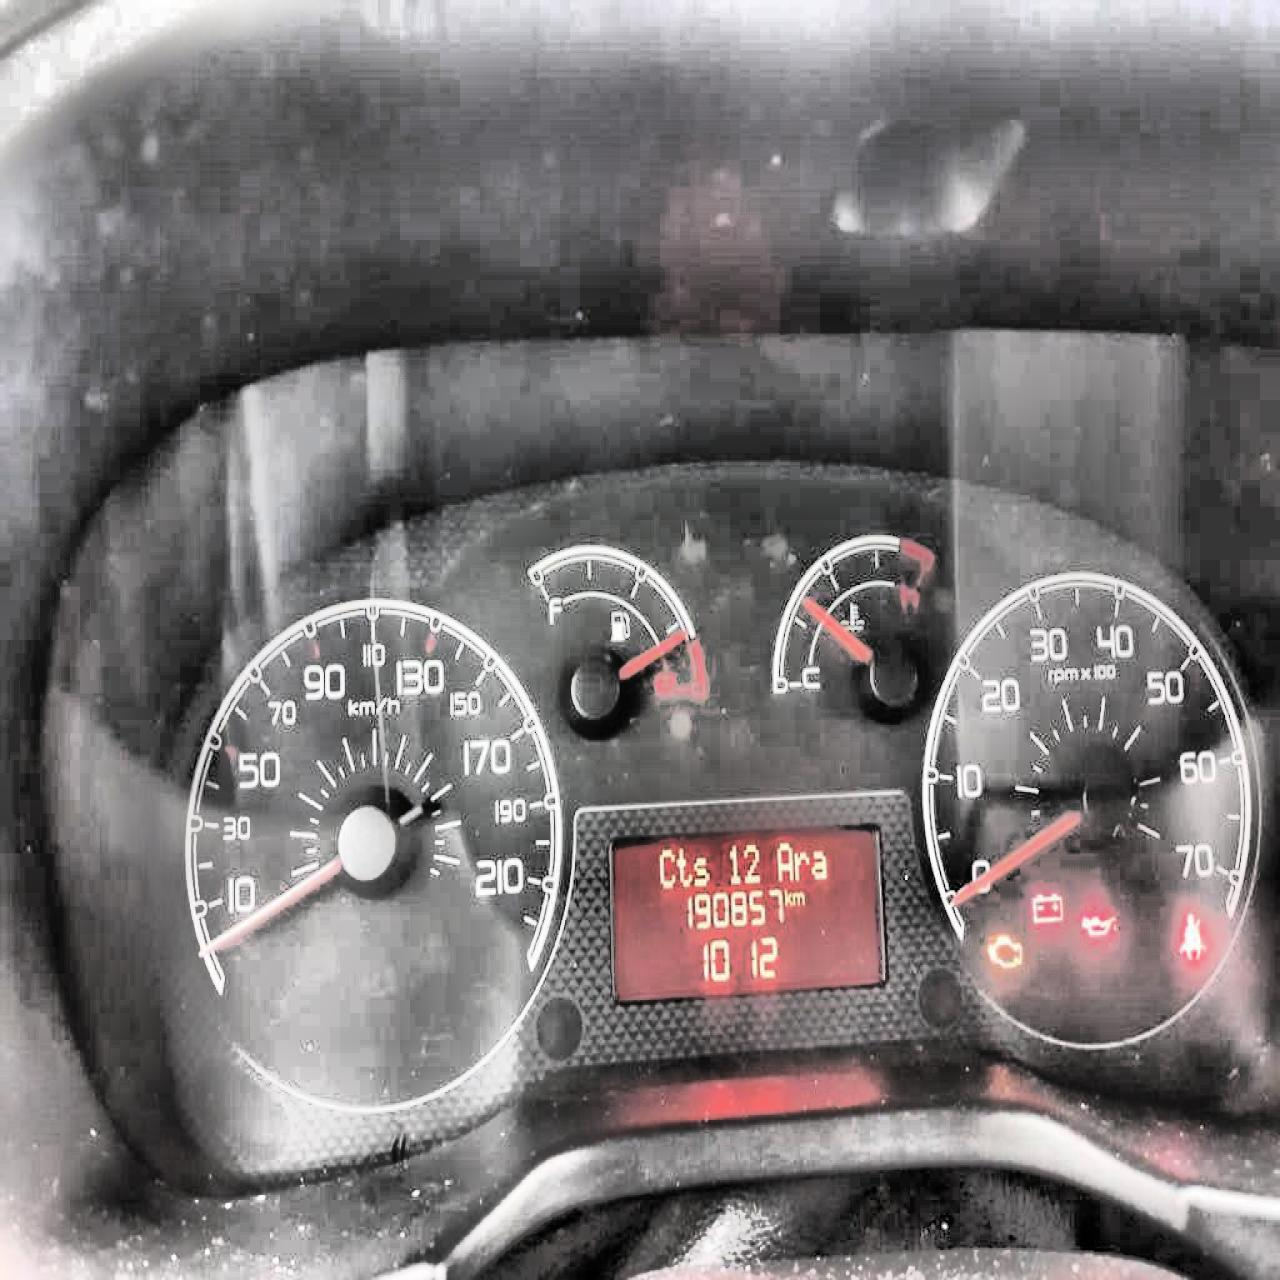0: (710, 937, 729, 981), (712, 890, 729, 928)
1: (728, 838, 741, 884), (700, 939, 709, 983), (749, 935, 757, 980), (687, 892, 693, 931)
2: (760, 933, 779, 979), (741, 839, 761, 884)
5: (747, 887, 764, 925)
7: (768, 887, 783, 925)
8: (729, 888, 748, 928)
9: (694, 890, 710, 930)
X: (656, 845, 674, 890), (675, 845, 693, 888), (775, 842, 792, 880), (810, 849, 828, 880), (693, 851, 708, 886), (792, 852, 809, 880), (791, 888, 805, 908), (784, 885, 791, 907)
odometer: (605, 818, 888, 1007)
